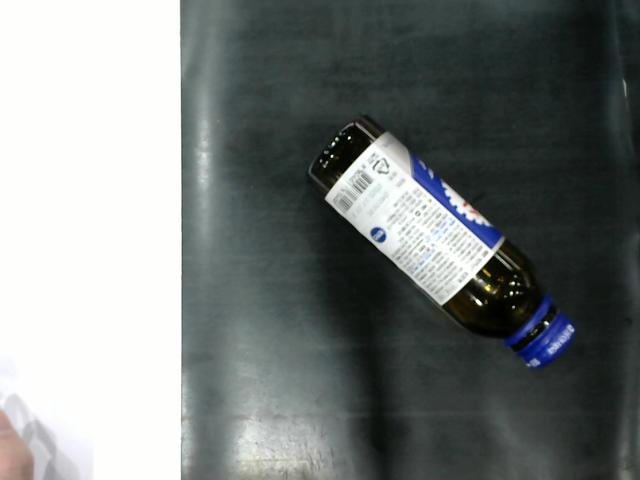glass: (299, 108, 592, 380)
